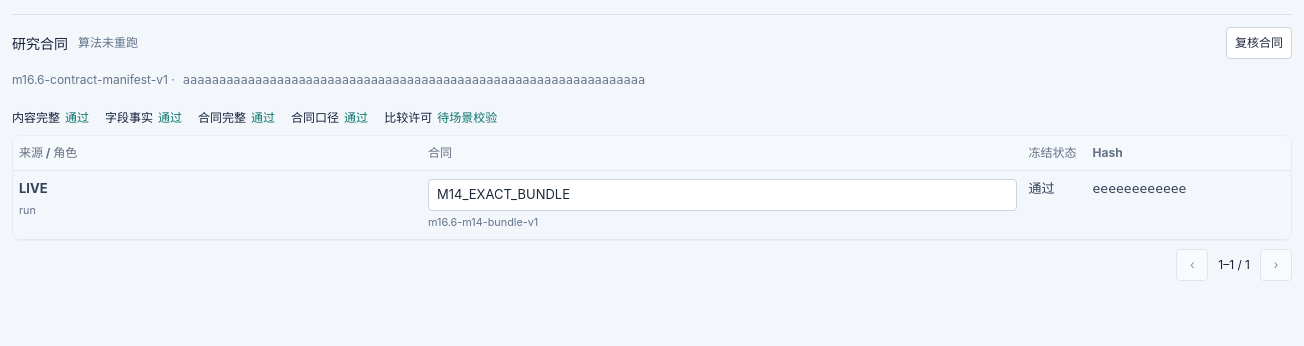
Scenario: clears current verification on an error and recovers by reload
Click the button "复核合同" at (1259, 43), box [1226,27,1292,59]
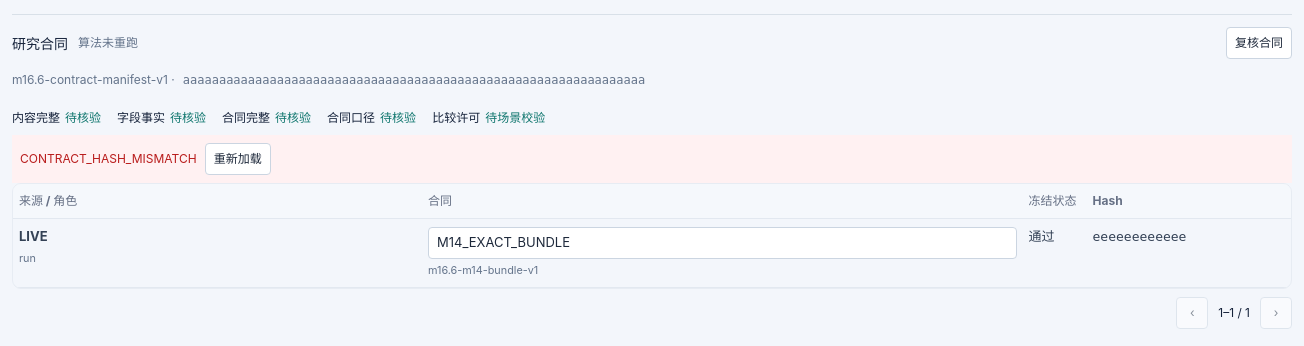
Now the message "CONTRACT_HASH_MISMATCH 重新加载" is shown, box [12,135,1292,183]
Now the element with class "contract-statuses" shows "待核验", box [65,110,101,125]
Click the button "重新加载" at (238, 159), box [205,143,271,175]
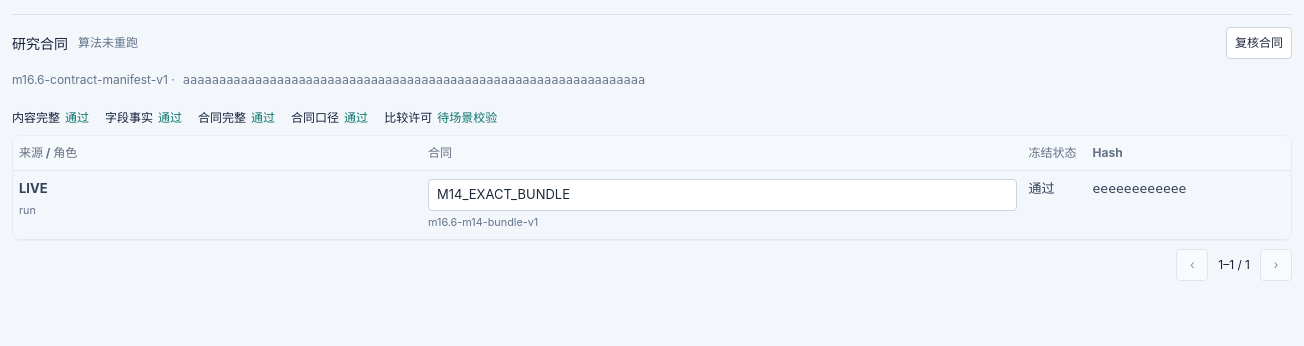
Now the element with class "contract-statuses" shows "通过", box [65,110,89,125]
